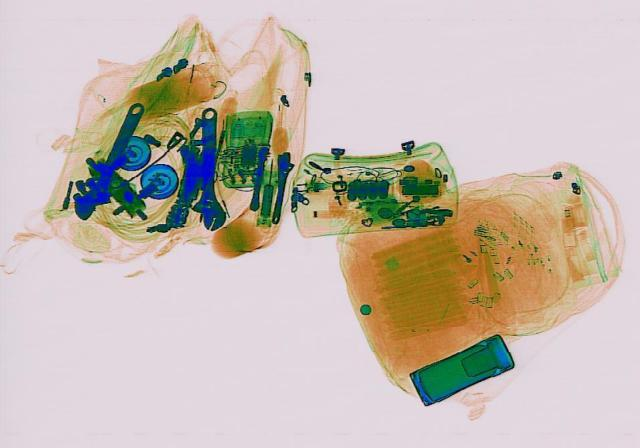Wrench: (61, 97, 156, 222), (194, 106, 226, 228), (267, 150, 295, 223)
